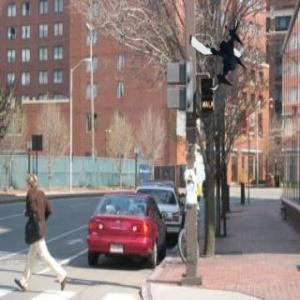drone: (179, 10, 260, 91)
